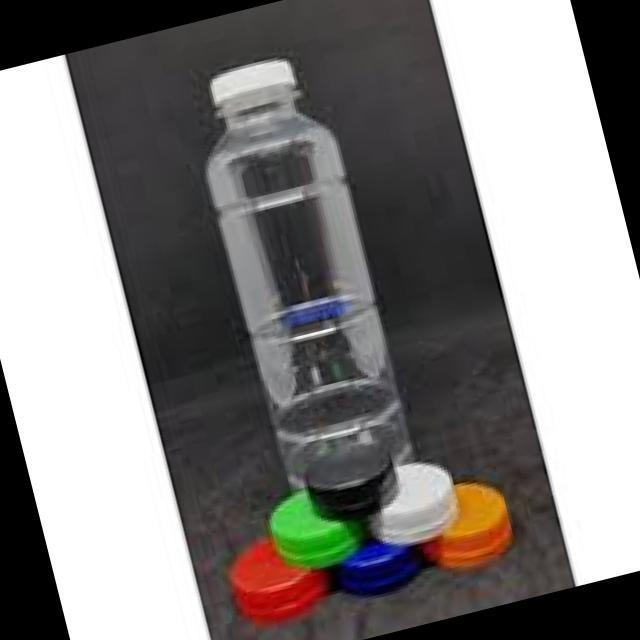good: (126, 26, 460, 502)
